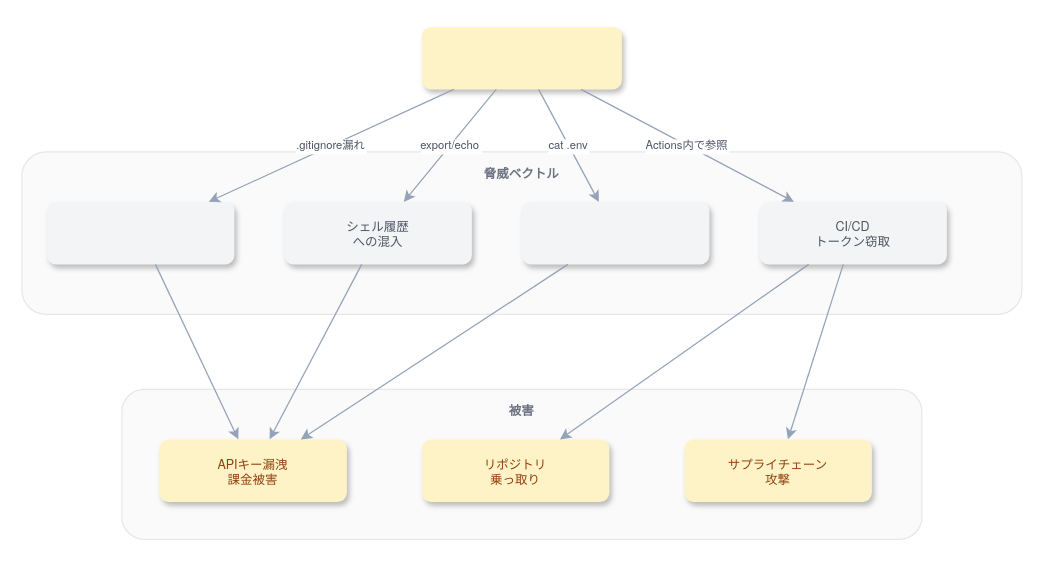
Image size: 1044x561. Some labels were removed from this diagram. Here are the shapes that lost their labels. From the top down, the centre of each, then its label:
At (x=522, y=59): ".env （平文APIキー）".
At (x=141, y=234): "うっかり git commit".
At (x=616, y=234): "AIエージェント による抽出".
